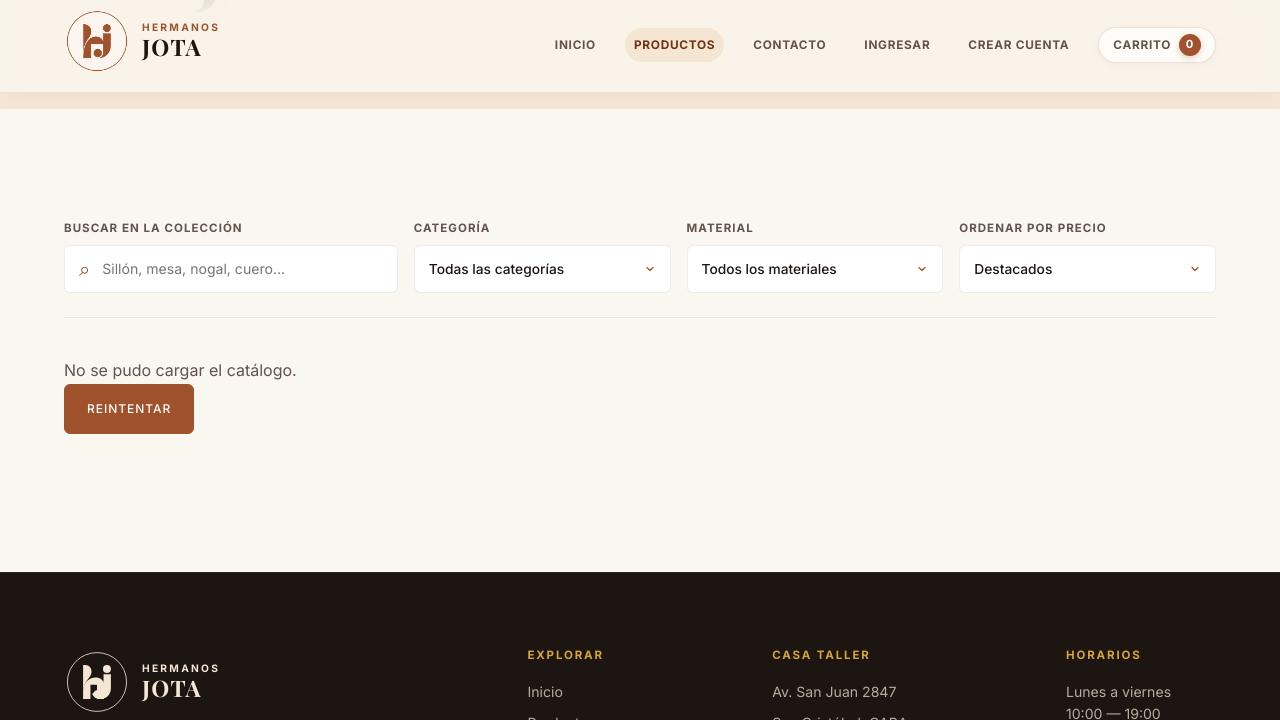
muestra un error accionable y reintenta cargar el catálogo
(page scrolled)
Check: the text "No se pudo cargar el catálogo." is shown, box [64,360,297,380]
Click the button "Reintentar". click: point(129, 409)
box: [64,384,194,434]
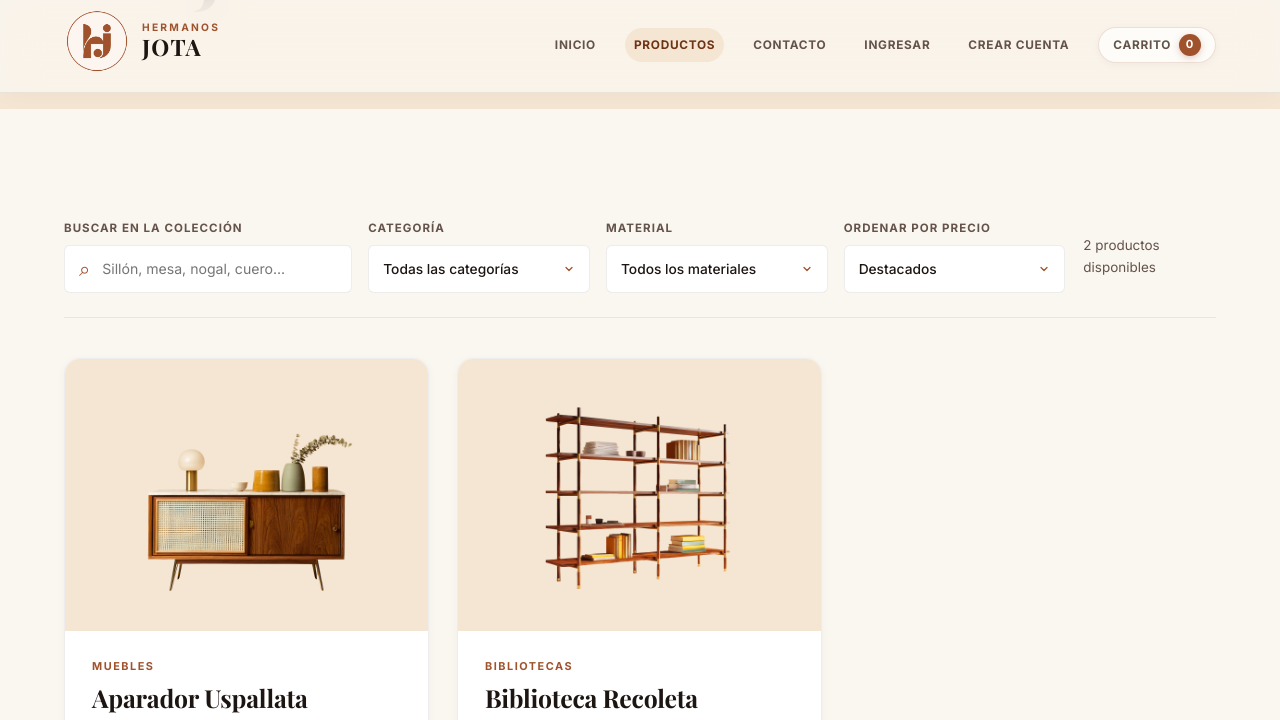
Check: the heading "Aparador Uspallata" is shown, box [92,684,308,712]
